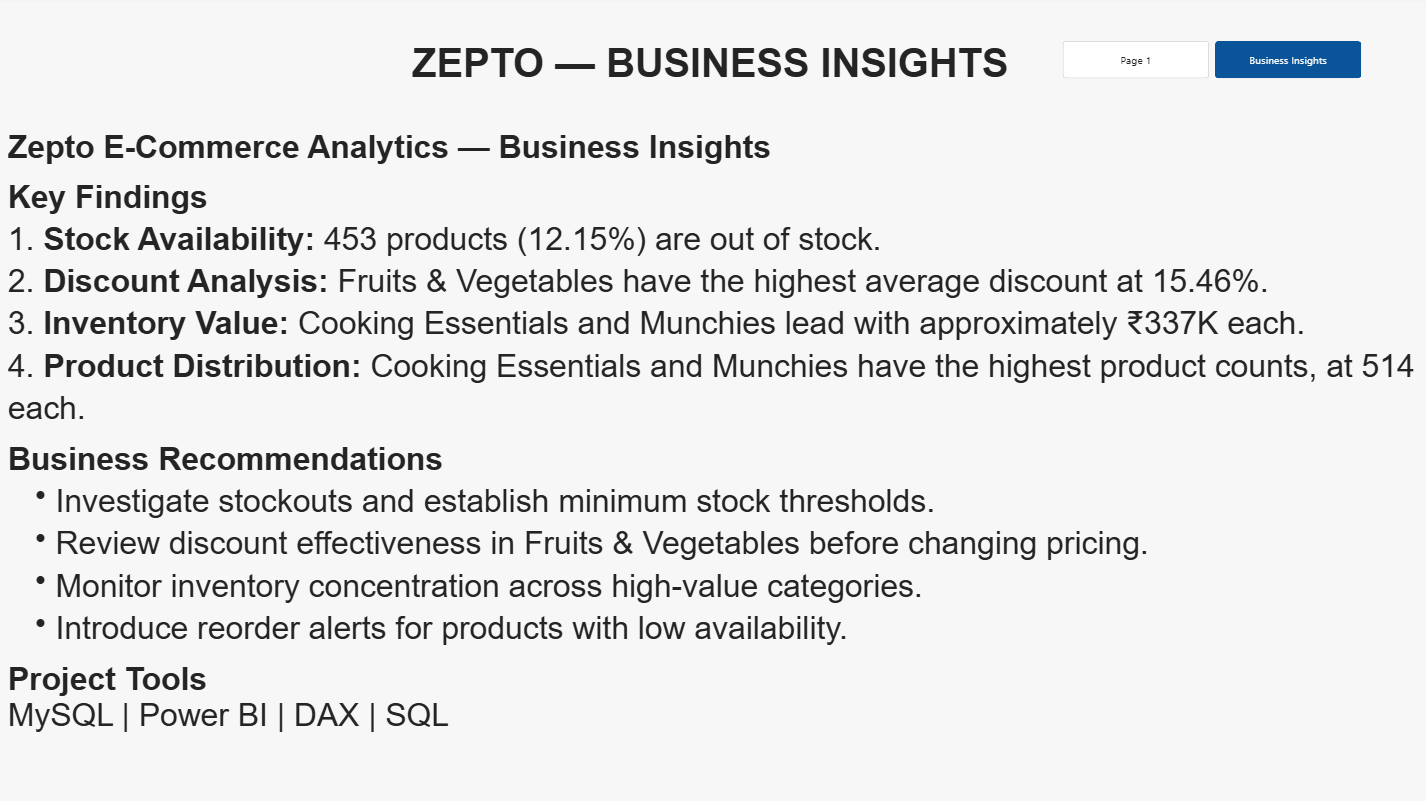

What the dashboard file says about the page in this screenshot:
{"tool":"powerbi","page":{"name":"Business Insights","canvas":[1920,1080],"ordinal":1},"visuals":[{"type":"textbox","box":[0,60.3,1919.5,117.2],"z":0},{"type":"textbox","box":[18.4,177.5,1901.1,902.8],"z":1},{"type":"pageNavigator","box":[1432.1,60.3,400,50],"z":2}]}

Visuals, with their boxes in screenshot pixels (x1, y1, x2, y2), scaled from the page's 1920x1080 canvas onto the 1426x801 screenshot:
textbox: bbox=[0, 45, 1425, 132]
textbox: bbox=[14, 132, 1425, 800]
pageNavigator: bbox=[1064, 45, 1361, 82]
